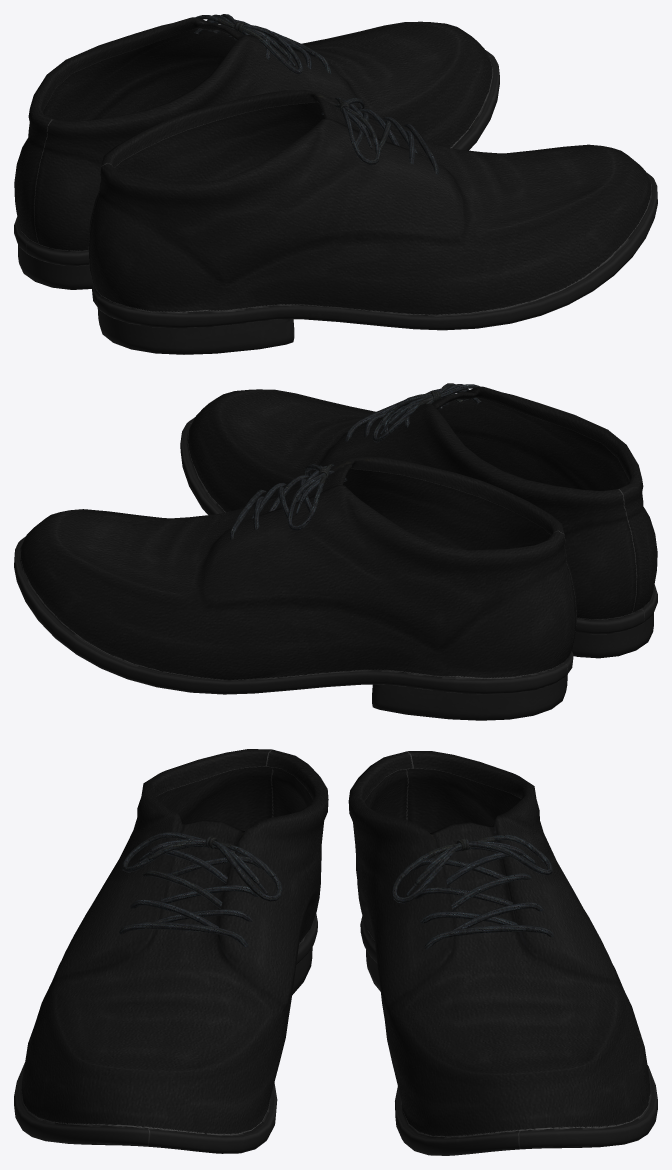
The model's file is YMJ-shoes.fbx.
3 renders of one model, top to bottom at view 1: azimuth 30°, elevation 25°; view 2: azimuth 150°, elevation 25°; view 3: azimuth 270°, elevation 25°, orthographic. The views are drawn at different scales.
Parts seen in each view (by area): view 1: YMJ-皮鞋; view 2: YMJ-皮鞋; view 3: YMJ-皮鞋.
Part boxes in pixels (x1,y1,x2,y2): YMJ-皮鞋: (14, 14, 657, 354); YMJ-皮鞋: (14, 383, 657, 720); YMJ-皮鞋: (14, 749, 657, 1155).
Bounding box in the file's own units: 0.2833 × 0.2638 × 0.1034.
